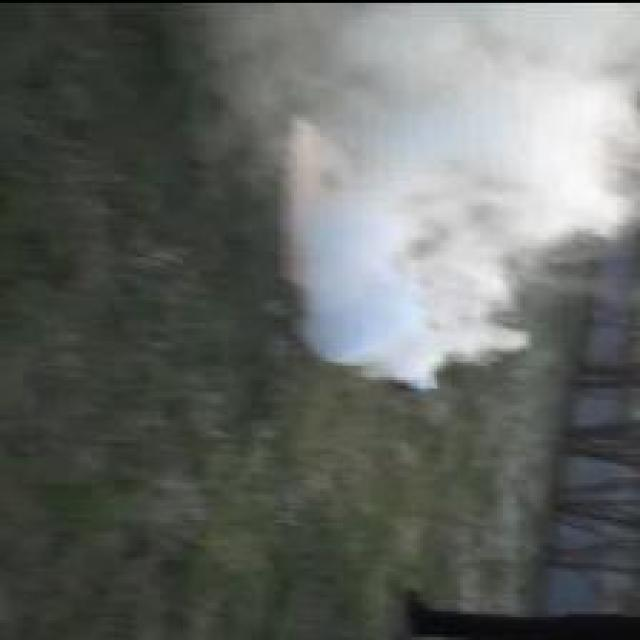Smoke: (206, 3, 640, 391)
